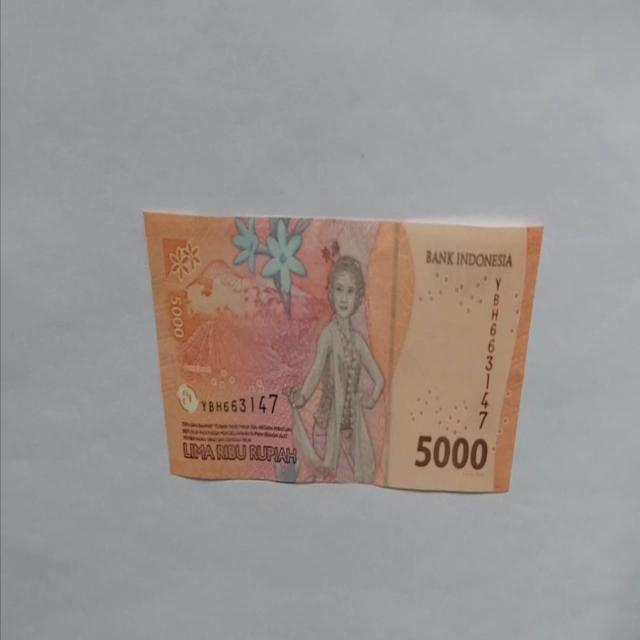lima ribu rupiah: (142, 210, 544, 492), (280, 254, 386, 484)
